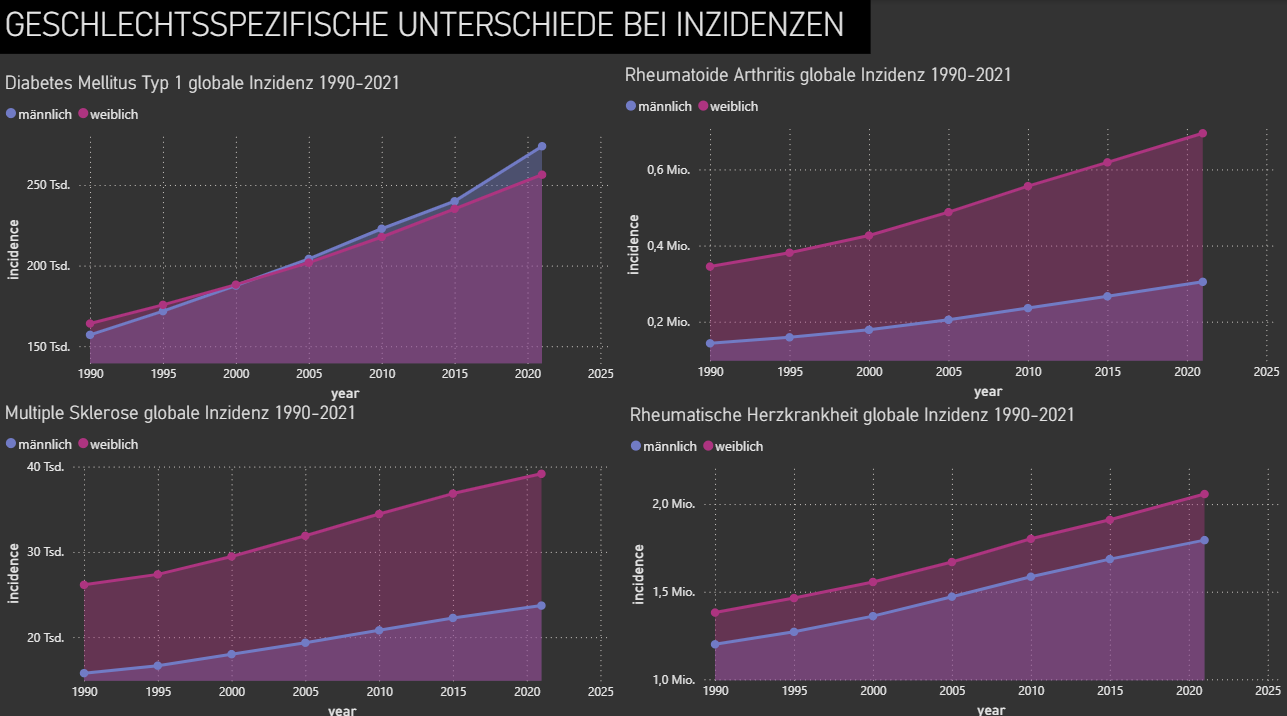

Layout of this report page (visuals, bound fields, positions):
{"tool":"powerbi","page":{"name":"Seite 17","canvas":[1280,720],"ordinal":2},"visuals":[{"type":"lineChart","title":"Diabetes Mellitus Typ 1 globale Inzidenz 1990-2021","fields":{"Category":["all years Diabetes mellitus type 1 (2).year"],"Y":["Sum(all years Diabetes mellitus type 1 (2).Summe_Männlich)","Sum(all years Diabetes mellitus type 1 (2).Summe_Weiblich)"]},"box":[0,70.9,615.7,333.4],"z":0},{"type":"lineChart","title":"Rheumatoide Arthritis globale Inzidenz 1990-2021","fields":{"Y":["Sum(all years Rheumatoid arthritis (2).Summe_Männlich)","Sum(all years Rheumatoid arthritis (2).Summe_Weiblich)"],"Category":["all years Rheumatoid arthritis (2).year"]},"box":[617.1,63.1,661.4,338.3],"z":1000},{"type":"lineChart","title":"Multiple Sklerose globale Inzidenz 1990-2021","fields":{"Y":["Sum(all years Multiple sclerosis (2).Summe_Männlich)","Sum(all years Multiple sclerosis (2).Summe_Weiblich)"],"Category":["all years Multiple sclerosis (2).year"]},"box":[0,399.3,615.8,320.9],"z":2000},{"type":"lineChart","title":"Rheumatische Herzkrankheit globale Inzidenz 1990-2021","fields":{"Category":["all years Rheumatic heart disease (2).year"],"Y":["Sum(all years Rheumatic heart disease (2).Summe_Männlich)","Sum(all years Rheumatic heart disease (2).Summe_Weiblich)"]},"box":[622.2,402.3,657.8,318],"z":3000},{"type":"textbox","box":[0,0,866,53.5],"z":4000}]}

Visuals, with their boxes in screenshot pixels (x1, y1, x2, y2), scaled from the page's 1280x720 canvas onto the 1287x716 screenshot:
"Diabetes Mellitus Typ 1 globale Inzidenz 1990-2021" lineChart: l=0, t=71, r=619, b=402
"Rheumatoide Arthritis globale Inzidenz 1990-2021" lineChart: l=620, t=63, r=1285, b=399
"Multiple Sklerose globale Inzidenz 1990-2021" lineChart: l=0, t=397, r=619, b=715
"Rheumatische Herzkrankheit globale Inzidenz 1990-2021" lineChart: l=626, t=400, r=1286, b=715
textbox: l=0, t=0, r=871, b=53
